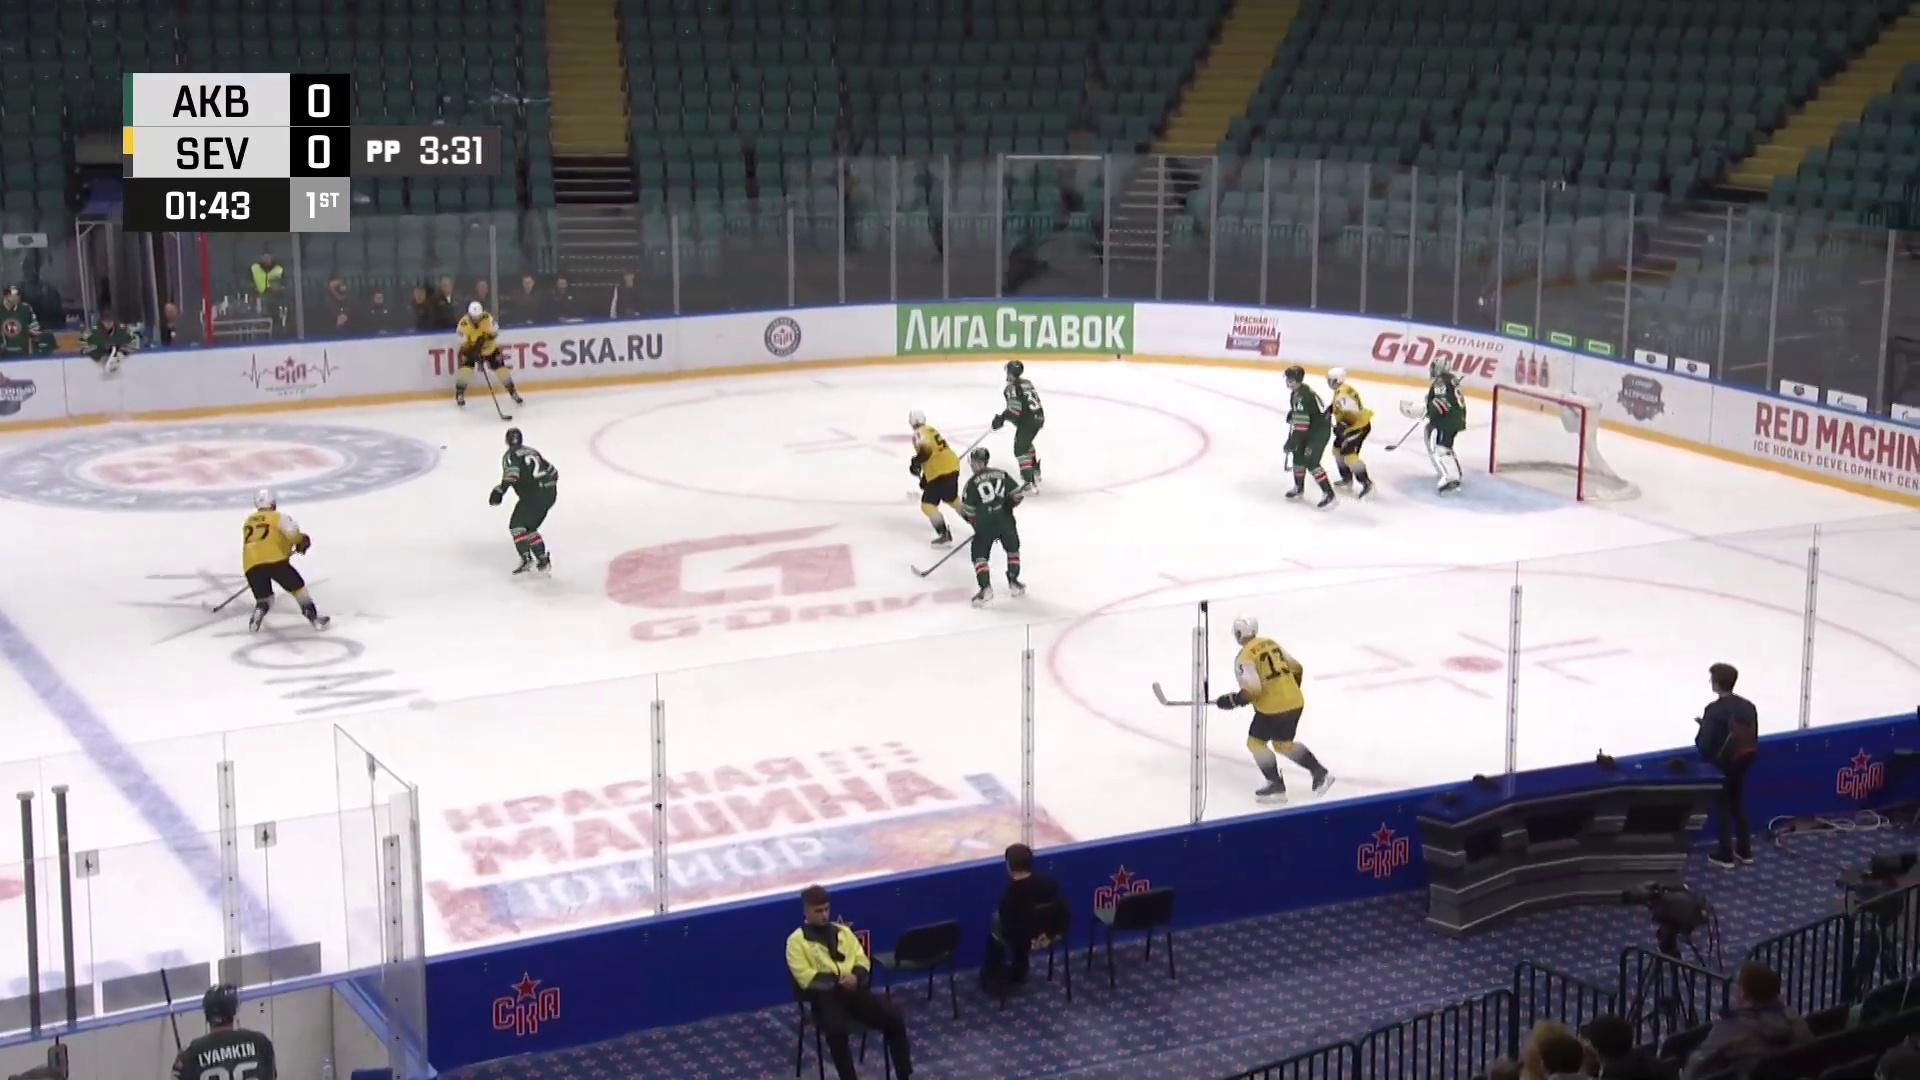ball: (439, 446, 448, 450)
